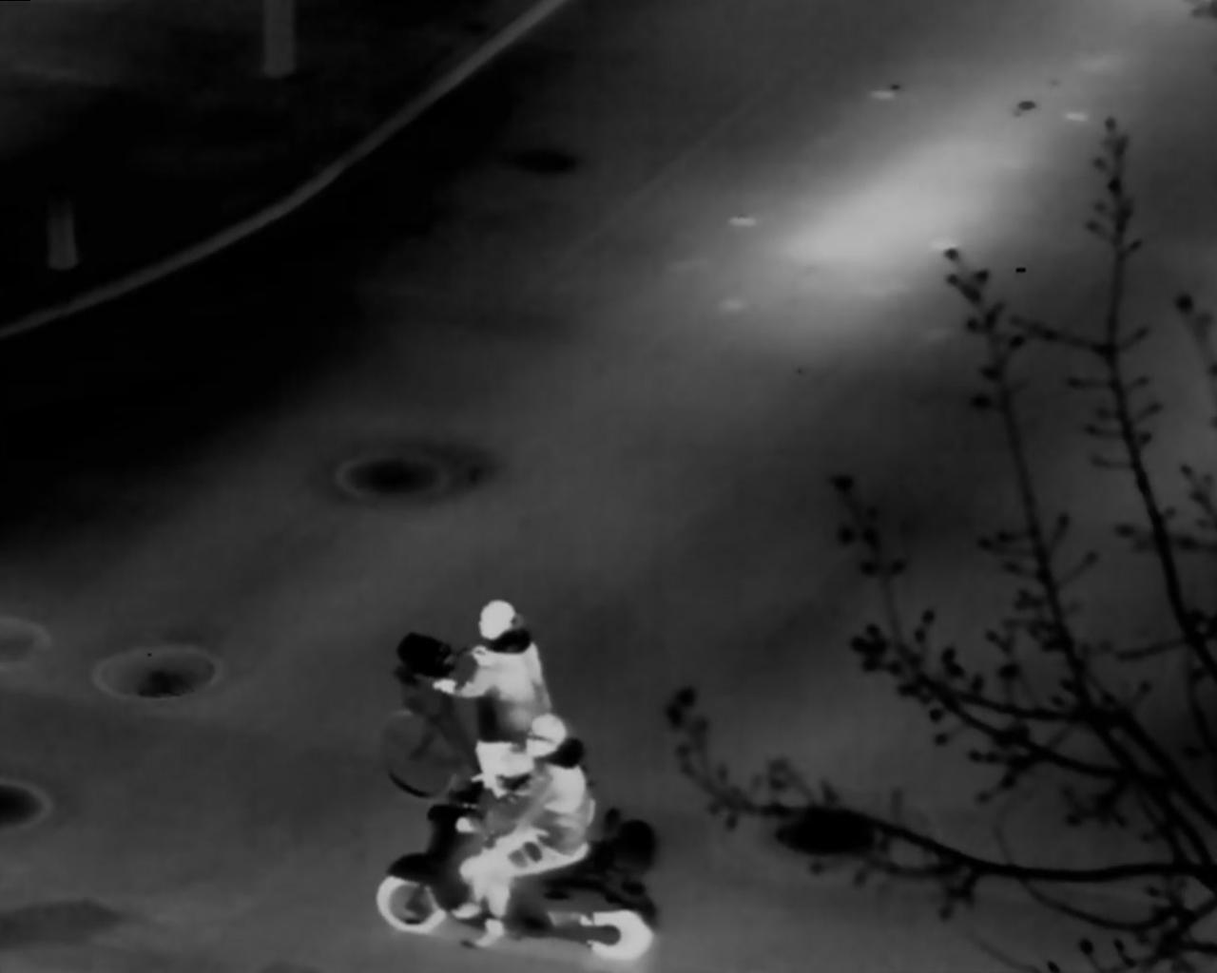person: (456, 713, 597, 947), (431, 598, 554, 742)
